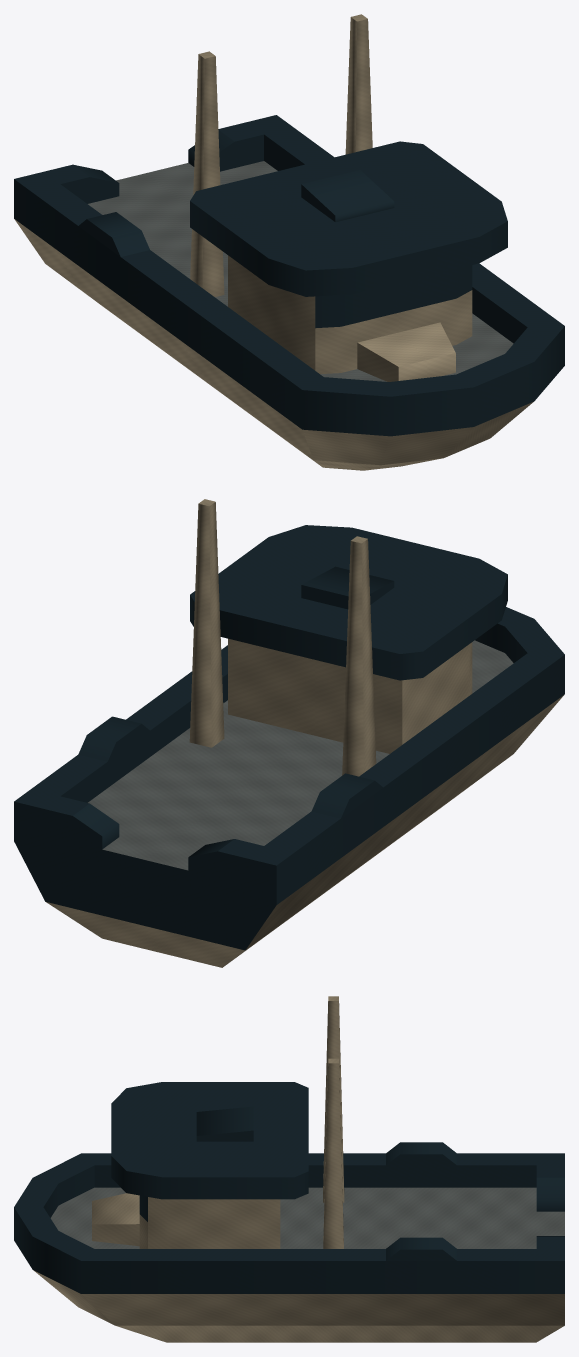
File: harbour-boat.glb
3 views of the same model, one above another, from view 1: azimuth 30°, elevation 25°; view 2: azimuth 150°, elevation 25°; view 3: azimuth 270°, elevation 25° (orthographic). The views are drawn at different scales.
Visible parts, largest first — view 1: harbour-boat-boat-fishing-small; view 2: harbour-boat-boat-fishing-small; view 3: harbour-boat-boat-fishing-small.
Part boxes in pixels (<box>): harbour-boat-boat-fishing-small: <box>14,14,564,470</box>; harbour-boat-boat-fishing-small: <box>14,499,564,967</box>; harbour-boat-boat-fishing-small: <box>14,996,564,1342</box>.
Bounding box in the file's own units: 2.4 × 3 × 5.2.
3 materials, 3 textured.
